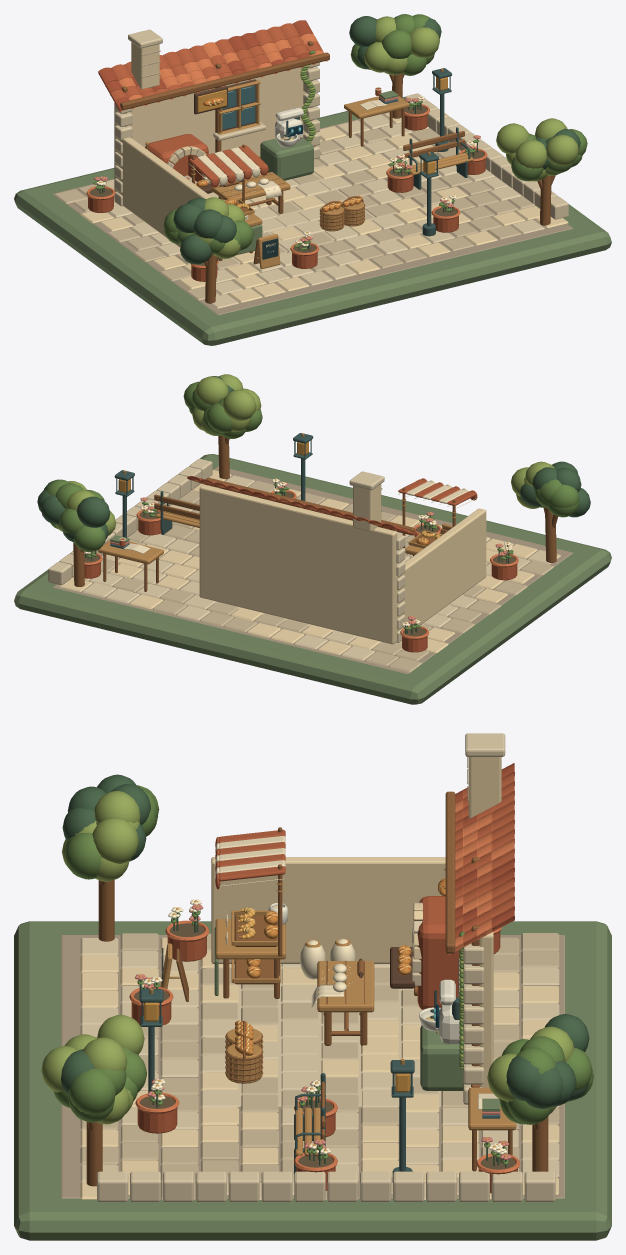
Rendered from environment-fc2fcf37486b.glb.
3 views of the same model, one above another, from view 1: azimuth 30°, elevation 25°; view 2: azimuth 150°, elevation 25°; view 3: azimuth 270°, elevation 25° (orthographic). The views are drawn at different scales.
Parts seen in each view (by area): view 1: BakeryRefined_sage, BakeryRefined_cream, BakeryRefined_stoneLight, BakeryRefined_stone, BakeryRefined_terracotta, BakeryRefined_leafLight, BakeryRefined_mortar, BakeryRefined_wood, BakeryRefined_leaf, BakeryRefined_woodLight, BakeryRefined_green, BakeryRefined_tileLight (+9 smaller); view 2: BakeryRefined_cream, BakeryRefined_sage, BakeryRefined_stoneLight, BakeryRefined_stone, BakeryRefined_leaf, BakeryRefined_mortar, BakeryRefined_leafLight, BakeryRefined_wood, BakeryRefined_green, BakeryRefined_terracotta, BakeryRefined_woodLight, BakeryRefined_iron (+4 smaller); view 3: BakeryRefined_sage, BakeryRefined_stoneLight, BakeryRefined_cream, BakeryRefined_stone, BakeryRefined_terracotta, BakeryRefined_wood, BakeryRefined_leafLight, BakeryRefined_leaf, BakeryRefined_mortar, BakeryRefined_woodLight, BakeryRefined_green, BakeryRefined_tileLight (+9 smaller).
Part boxes in pixels (left/top/right/bottom): BakeryRefined_sage: left=14, top=90, right=611, bottom=345; BakeryRefined_cream: left=81, top=42, right=568, bottom=302; BakeryRefined_stoneLight: left=103, top=29, right=568, bottom=308; BakeryRefined_stone: left=54, top=50, right=534, bottom=300; BakeryRefined_terracotta: left=88, top=23, right=485, bottom=281; BakeryRefined_leafLight: left=193, top=16, right=578, bottom=258; BakeryRefined_mortar: left=53, top=112, right=573, bottom=314; BakeryRefined_wood: left=120, top=41, right=555, bottom=303; BakeryRefined_leaf: left=93, top=14, right=587, bottom=254; BakeryRefined_woodLight: left=145, top=80, right=473, bottom=268; BakeryRefined_green: left=97, top=16, right=580, bottom=264; BakeryRefined_tileLight: left=86, top=28, right=487, bottom=268; BakeryRefined_cream: left=59, top=470, right=537, bottom=654; BakeryRefined_sage: left=14, top=454, right=611, bottom=704; BakeryRefined_stoneLight: left=48, top=458, right=560, bottom=660; BakeryRefined_stone: left=101, top=480, right=553, bottom=672; BakeryRefined_leaf: left=45, top=381, right=579, bottom=629; BakeryRefined_mortar: left=53, top=466, right=572, bottom=673; BakeryRefined_leafLight: left=55, top=374, right=554, bottom=535; BakeryRefined_wood: left=73, top=435, right=558, bottom=591; BakeryRefined_green: left=37, top=376, right=590, bottom=634; BakeryRefined_terracotta: left=84, top=478, right=517, bottom=652; BakeryRefined_woodLight: left=98, top=499, right=456, bottom=564; BakeryRefined_iron: left=114, top=433, right=313, bottom=537; BakeryRefined_sage: left=14, top=921, right=611, bottom=1240; BakeryRefined_stoneLight: left=80, top=733, right=559, bottom=1201; BakeryRefined_cream: left=80, top=757, right=559, bottom=1199; BakeryRefined_stone: left=80, top=757, right=559, bottom=1199; BakeryRefined_terracotta: left=131, top=772, right=517, bottom=1193; BakeryRefined_wood: left=86, top=791, right=548, bottom=1186; BakeryRefined_leafLight: left=41, top=791, right=574, bottom=1124; BakeryRefined_leaf: left=53, top=785, right=593, bottom=1164; BakeryRefined_mortar: left=61, top=935, right=564, bottom=1198; BakeryRefined_woodLight: left=160, top=882, right=516, bottom=1156; BakeryRefined_green: left=61, top=774, right=589, bottom=1167; BakeryRefined_tileLight: left=129, top=800, right=520, bottom=1174.
Size of the model in its own units: 12.04 by 5.01 by 10.
